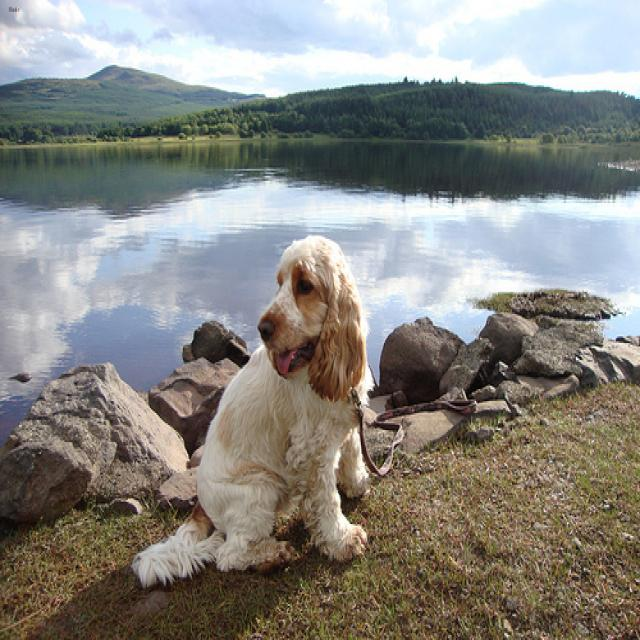dog-english_cocker_spaniel: (125, 230, 378, 601)
